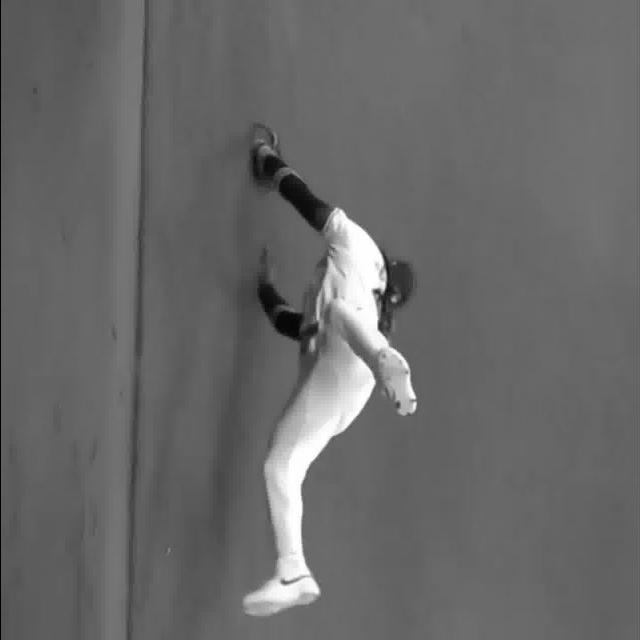baseball_glove: (249, 116, 285, 199)
shoe: (239, 566, 319, 625), (372, 344, 423, 421)
